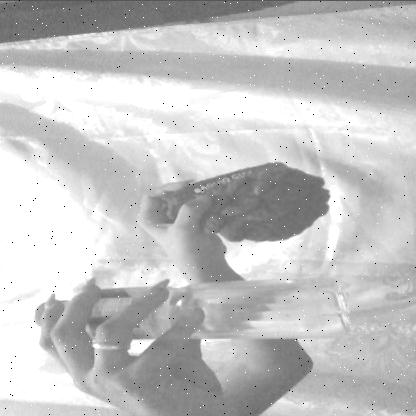Plastic Bottle: (16, 269, 383, 365)
